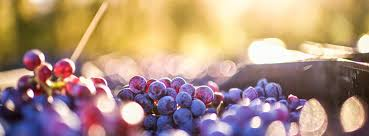Red Grapes: (125, 76, 227, 124)
